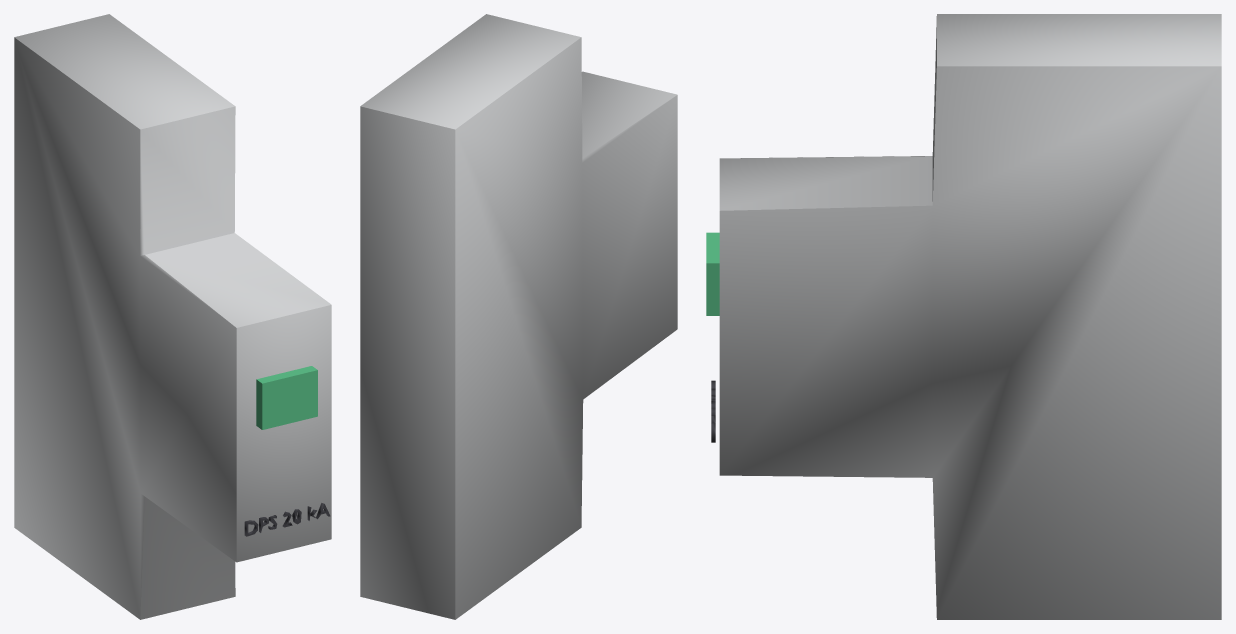
The model's file is ELE-QDR-007_lod1.glb.
3 views of the same model, side by side, from view 1: azimuth 30°, elevation 25°; view 2: azimuth 150°, elevation 25°; view 3: azimuth 270°, elevation 25° (orthographic). The views are drawn at different scales.
Parts seen in each view (by area): view 1: ELE-QDR-007_corpo, ELE-QDR-007_indicador, ELE-QDR-007_texto; view 2: ELE-QDR-007_corpo; view 3: ELE-QDR-007_corpo, ELE-QDR-007_indicador.
Boxes of the visible parts, box(x1,y1,x2,y2) form: ELE-QDR-007_corpo: box(14, 14, 331, 619); ELE-QDR-007_indicador: box(256, 366, 317, 429); ELE-QDR-007_texto: box(244, 503, 330, 536); ELE-QDR-007_corpo: box(360, 14, 677, 619); ELE-QDR-007_corpo: box(719, 14, 1221, 619); ELE-QDR-007_indicador: box(706, 232, 719, 315).
Bounding box in the file's own units: 0.0172 × 0.0843 × 0.0712.
